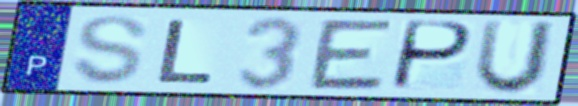3: (235, 12, 309, 94)
E: (306, 17, 399, 93)
L: (153, 17, 218, 85)
P: (386, 18, 476, 93)
S: (68, 12, 151, 86)
U: (470, 18, 561, 98)
